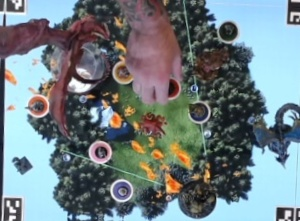blue: (185, 98, 212, 124)
green: (217, 20, 241, 44)
orange: (23, 92, 49, 119)
pink: (86, 138, 114, 164)
red: (158, 74, 181, 99)
violet: (108, 175, 134, 201)
yellow: (110, 56, 135, 84)
